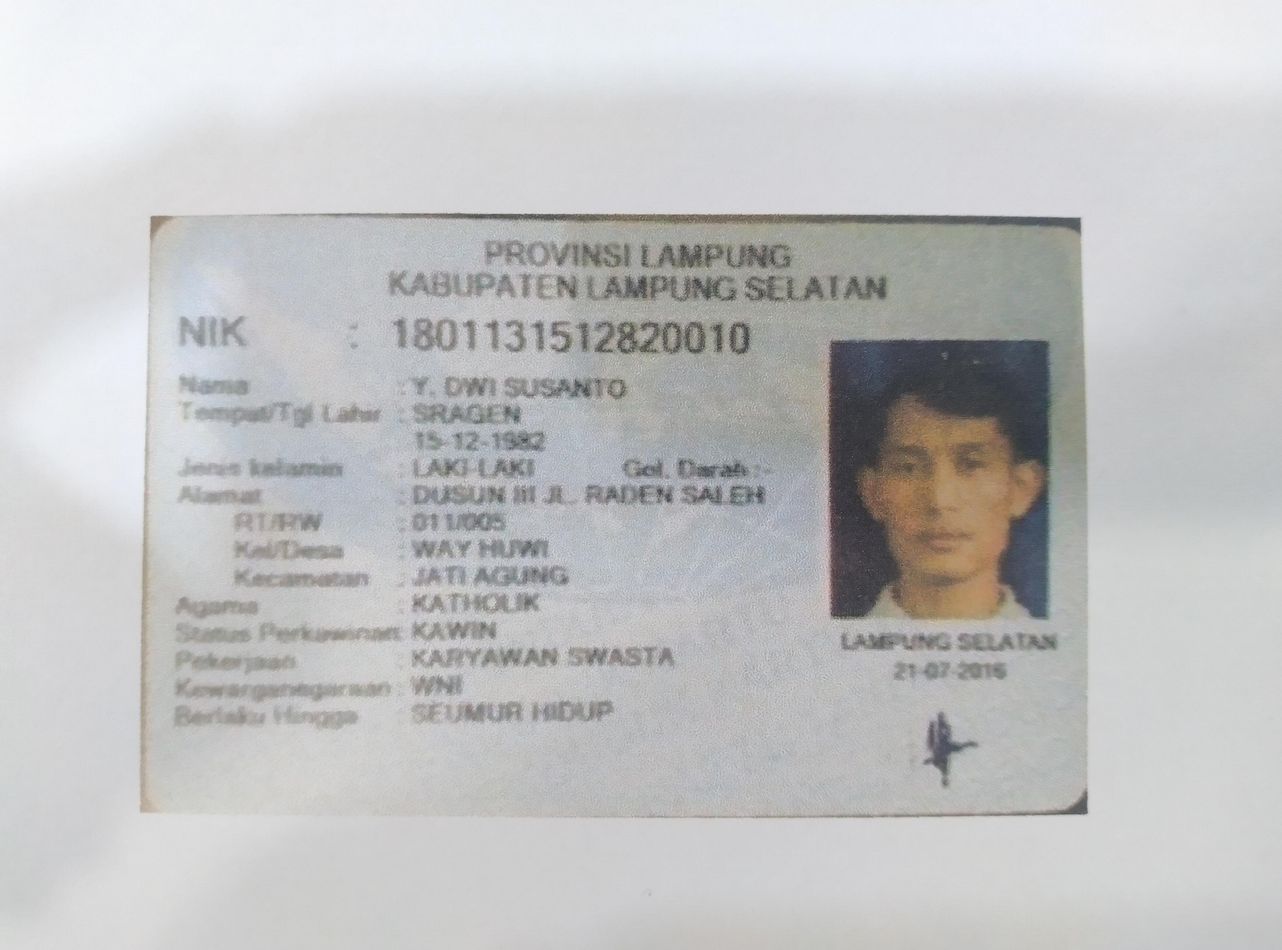ID-card: (145, 223, 1083, 808)
